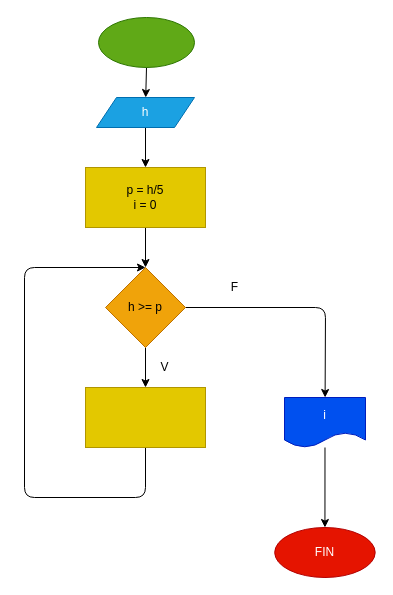
Some shapes in this 393 by 595 pixel diagram are drawn without their labels. The shapes that lost their labels are listed below. From the top down, each one's box as (x1, y1, x2, y2) in pixels, then its label:
(98, 16, 194, 68): INICIO
(84, 386, 206, 448): h = h - h*(10/100) i = i +1
